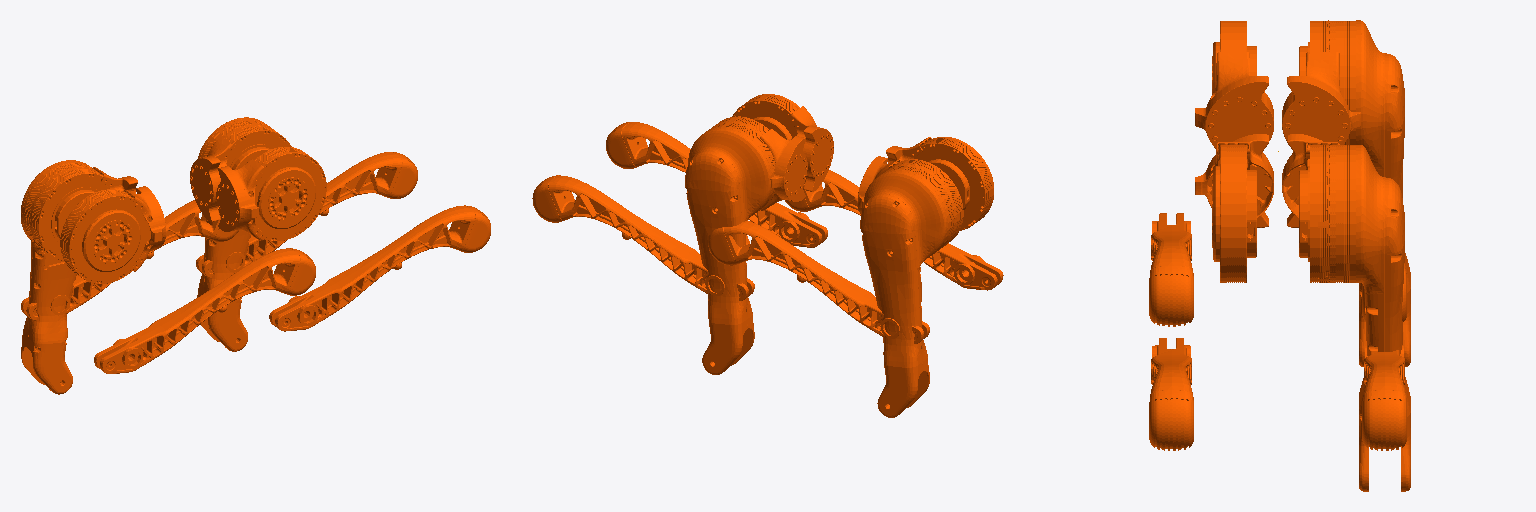
--- Facts derived from the render (not from the file) ---
The picture shows the robot from 3 angles, left to right: view 1: azimuth 30°, elevation 25°; view 2: azimuth 150°, elevation 25°; view 3: azimuth 270°, elevation 25°; orthographic projection.
Robot: a1_description — 23 links, 22 joints (12 revolute, 10 fixed); root link base; default pose: joints at zero except 4 at the middle of their limits (FR_calf_joint = -1.81, FL_calf_joint = -1.81, RR_calf_joint = -1.81, RL_calf_joint = -1.81).
Visible links, largest first — view 1: FR_hip, RR_hip, RR_calf, FR_calf, RL_thigh, FL_calf, FL_thigh, RL_hip, FL_hip, RL_calf; view 2: RL_thigh, FL_thigh, FL_calf, RL_calf, FR_calf, RR_hip, RR_calf, FR_hip, FL_hip, RL_hip; view 3: FL_thigh, RL_thigh, FR_hip, RR_hip, RL_hip, FL_hip, RR_calf, FR_calf, FL_calf.
Link boxes in pixels (x1,y1,x2,y2): FR_hip: (216,147,326,240); RR_hip: (60,186,165,283); RR_calf: (94,248,315,373); FR_calf: (269,205,490,331); RL_thigh: (21,160,97,394); FL_calf: (196,152,417,277); FL_thigh: (197,117,273,351); RL_hip: (30,167,137,260); FL_hip: (190,124,291,221); RL_calf: (21,200,238,320); RL_thigh: (860,163,957,417); FL_thigh: (685,120,775,374); FL_calf: (532,175,754,300); RL_calf: (708,220,929,343); FR_calf: (606,122,827,247); RR_hip: (886,137,993,230); RR_calf: (785,170,1003,290); FR_hip: (732,94,833,191); FL_hip: (716,116,807,210); RL_hip: (858,156,963,244); FL_thigh: (1308,145,1410,491); RL_thigh: (1308,20,1410,366); FR_hip: (1195,134,1273,282); RR_hip: (1195,21,1273,160); RL_hip: (1282,21,1360,160); FL_hip: (1282,134,1339,282); RR_calf: (1149,213,1193,326); FR_calf: (1149,338,1193,450); FL_calf: (1362,345,1406,450).
Size in the robot's own frame: 0.8265 by 0.3211 by 0.4589 metres.
Meshes: 5 distinct files referenced, 10 mesh visuals loaded (3 Collada DAE); not drawn: 3 (reference not matched to a file when rendering).

robot.urdf — a1_description:
<?xml version="1.0" encoding="utf-8"?>
<!-- =================================================================================== -->
<!-- |    This document was autogenerated by xacro from robot.xacro                    | -->
<!-- |    EDITING THIS FILE BY HAND IS NOT RECOMMENDED                                 | -->
<!-- =================================================================================== -->
<robot name="a1_description">
  <!-- dynamics inertial value -->
  <!-- trunk -->
  <!-- <xacro:property name="trunk_mass" value="5.660"/>
    <xacro:property name="trunk_com_x" value="0.012731"/>
    <xacro:property name="trunk_com_y" value="0.002186"/>
    <xacro:property name="trunk_com_z" value="0.000515"/>
    <xacro:property name="trunk_ixx" value="0.016839930"/>
    <xacro:property name="trunk_ixy" value="0.000083902"/>
    <xacro:property name="trunk_ixz" value="0.000597679"/>
    <xacro:property name="trunk_iyy" value="0.056579028"/>
    <xacro:property name="trunk_iyz" value="0.000025134"/>
    <xacro:property name="trunk_izz" value="0.064713601"/> -->
  <material name="black">
    <color rgba="0.0 0.0 0.0 1.0"/>
  </material>
  <material name="blue">
    <color rgba="0.0 0.0 0.8 1.0"/>
  </material>
  <material name="green">
    <color rgba="0.0 0.8 0.0 1.0"/>
  </material>
  <material name="grey">
    <color rgba="0.2 0.2 0.2 1.0"/>
  </material>
  <material name="silver">
    <color rgba="0.913725490196 0.913725490196 0.847058823529 1.0"/>
  </material>
  <material name="orange">
    <color rgba="1.0 0.423529411765 0.0392156862745 1.0"/>
  </material>
  <material name="brown">
    <color rgba="0.870588235294 0.811764705882 0.764705882353 1.0"/>
  </material>
  <material name="red">
    <color rgba="0.8 0.0 0.0 1.0"/>
  </material>
  <material name="white">
    <color rgba="1.0 1.0 1.0 1.0"/>
  </material>
  <!-- ros_control plugin -->
  <gazebo>
    <plugin filename="libgazebo_ros_control.so" name="gazebo_ros_control">
      <robotNamespace>/a1_gazebo</robotNamespace>
      <robotSimType>gazebo_ros_control/DefaultRobotHWSim</robotSimType>
    </plugin>
  </gazebo>
  <!-- Show the trajectory of trunk center. -->
  <gazebo>
    <plugin filename="libLinkPlot3DPlugin.so" name="3dplotTrunk">
      <frequency>10</frequency>
      <plot>
        <link>base</link>
        <pose>0 0 0 0 0 0</pose>
        <material>Gazebo/Yellow</material>
      </plot>
    </plugin>
  </gazebo>
  <!-- Show the trajectory of foot. You can add another trajectory about another foot. -->
  <gazebo>
    <plugin filename="libLinkPlot3DPlugin.so" name="3dplot">
      <frequency>1000</frequency>
      <plot>
        <link>FR_calf</link>
        <pose>0 0 -0.2 0 0 0</pose>
        <material>Gazebo/Yellow</material>
      </plot>
    </plugin>
  </gazebo>
  <gazebo>
    <plugin filename="libgazebo_ros_force.so" name="gazebo_ros_force">
      <bodyName>trunk</bodyName>
      <topicName>/apply_force/trunk</topicName>
    </plugin>
  </gazebo>
  <gazebo reference="imu_link">
    <gravity>true</gravity>
    <sensor name="imu_sensor" type="imu">
      <always_on>true</always_on>
      <update_rate>1000</update_rate>
      <visualize>true</visualize>
      <topic>__default_topic__</topic>
      <plugin filename="libgazebo_ros_imu_sensor.so" name="imu_plugin">
        <topicName>trunk_imu</topicName>
        <bodyName>imu_link</bodyName>
        <updateRateHZ>1000.0</updateRateHZ>
        <gaussianNoise>0.0</gaussianNoise>
        <xyzOffset>0 0 0</xyzOffset>
        <rpyOffset>0 0 0</rpyOffset>
        <frameName>imu_link</frameName>
      </plugin>
      <pose>0 0 0 0 0 0</pose>
    </sensor>
  </gazebo>
  <!-- Foot contacts. -->
  <gazebo reference="FR_calf">
    <sensor name="FR_foot_contact" type="contact">
      <update_rate>100</update_rate>
      <plugin filename="libunitreeFootContactPlugin.so" name="contactPlugin"/>
      <contact>
        <collision>FR_calf_fixed_joint_lump__FR_foot_collision_1</collision>
      </contact>
    </sensor>
  </gazebo>
  <gazebo reference="FL_calf">
    <sensor name="FL_foot_contact" type="contact">
      <update_rate>100</update_rate>
      <plugin filename="libunitreeFootContactPlugin.so" name="contactPlugin"/>
      <contact>
        <collision>FL_calf_fixed_joint_lump__FL_foot_collision_1</collision>
      </contact>
    </sensor>
  </gazebo>
  <gazebo reference="RR_calf">
    <sensor name="RR_foot_contact" type="contact">
      <update_rate>100</update_rate>
      <plugin filename="libunitreeFootContactPlugin.so" name="contactPlugin"/>
      <contact>
        <collision>RR_calf_fixed_joint_lump__RR_foot_collision_1</collision>
      </contact>
    </sensor>
  </gazebo>
  <gazebo reference="RL_calf">
    <sensor name="RL_foot_contact" type="contact">
      <update_rate>100</update_rate>
      <plugin filename="libunitreeFootContactPlugin.so" name="contactPlugin"/>
      <contact>
        <collision>RL_calf_fixed_joint_lump__RL_foot_collision_1</collision>
      </contact>
    </sensor>
  </gazebo>
  <!-- Visualization of Foot contacts. -->
  <gazebo reference="FR_foot">
    <visual>
      <plugin filename="libunitreeDrawForcePlugin.so" name="drawForcePlugin">
        <topicName>FR_foot_contact</topicName>
      </plugin>
    </visual>
  </gazebo>
  <gazebo reference="FL_foot">
    <visual>
      <plugin filename="libunitreeDrawForcePlugin.so" name="drawForcePlugin">
        <topicName>FL_foot_contact</topicName>
      </plugin>
    </visual>
  </gazebo>
  <gazebo reference="RR_foot">
    <visual>
      <plugin filename="libunitreeDrawForcePlugin.so" name="drawForcePlugin">
        <topicName>RR_foot_contact</topicName>
      </plugin>
    </visual>
  </gazebo>
  <gazebo reference="RL_foot">
    <visual>
      <plugin filename="libunitreeDrawForcePlugin.so" name="drawForcePlugin">
        <topicName>RL_foot_contact</topicName>
      </plugin>
    </visual>
  </gazebo>
  <gazebo reference="base">
    <material>Gazebo/Green</material>
    <turnGravityOff>false</turnGravityOff>
  </gazebo>
  <gazebo reference="trunk">
    <mu1>0.2</mu1>
    <mu2>0.2</mu2>
    <kp value="1000000.0"/>
    <kd value="1.0"/>
  </gazebo>
  <gazebo reference="stick_link">
    <mu1>0.2</mu1>
    <mu2>0.2</mu2>
    <material>Gazebo/White</material>
  </gazebo>
  <gazebo reference="imu_link">
    <mu1>0.2</mu1>
    <mu2>0.2</mu2>
    <material>Gazebo/Red</material>
  </gazebo>
  <!-- FL leg -->
  <gazebo reference="FL_hip">
    <mu1>0.2</mu1>
    <mu2>0.2</mu2>
    <material>Gazebo/DarkGrey</material>
  </gazebo>
  <gazebo reference="FL_thigh">
    <mu1>0.2</mu1>
    <mu2>0.2</mu2>
    <self_collide>1</self_collide>
    <material>Gazebo/DarkGrey</material>
    <kp value="1000000.0"/>
    <kd value="1.0"/>
  </gazebo>
  <gazebo reference="FL_calf">
    <mu1>0.2</mu1>
    <mu2>0.2</mu2>
    <self_collide>1</self_collide>
  </gazebo>
  <gazebo reference="FL_foot">
    <mu1>0.6</mu1>
    <mu2>0.6</mu2>
    <self_collide>1</self_collide>
    <material>Gazebo/DarkGrey</material>
    <kp value="1000000.0"/>
    <kd value="1.0"/>
  </gazebo>
  <!-- FR leg -->
  <gazebo reference="FR_hip">
    <mu1>0.2</mu1>
    <mu2>0.2</mu2>
    <material>Gazebo/DarkGrey</material>
  </gazebo>
  <gazebo reference="FR_thigh">
    <mu1>0.2</mu1>
    <mu2>0.2</mu2>
    <self_collide>1</self_collide>
    <material>Gazebo/DarkGrey</material>
    <kp value="1000000.0"/>
    <kd value="1.0"/>
  </gazebo>
  <gazebo reference="FR_calf">
    <mu1>0.2</mu1>
    <mu2>0.2</mu2>
    <self_collide>1</self_collide>
  </gazebo>
  <gazebo reference="FR_foot">
    <mu1>0.6</mu1>
    <mu2>0.6</mu2>
    <self_collide>1</self_collide>
    <material>Gazebo/DarkGrey</material>
    <kp value="1000000.0"/>
    <kd value="1.0"/>
  </gazebo>
  <!-- RL leg -->
  <gazebo reference="RL_hip">
    <mu1>0.2</mu1>
    <mu2>0.2</mu2>
    <material>Gazebo/DarkGrey</material>
  </gazebo>
  <gazebo reference="RL_thigh">
    <mu1>0.2</mu1>
    <mu2>0.2</mu2>
    <self_collide>1</self_collide>
    <material>Gazebo/DarkGrey</material>
    <kp value="1000000.0"/>
    <kd value="1.0"/>
  </gazebo>
  <gazebo reference="RL_calf">
    <mu1>0.2</mu1>
    <mu2>0.2</mu2>
    <self_collide>1</self_collide>
  </gazebo>
  <gazebo reference="RL_foot">
    <mu1>0.6</mu1>
    <mu2>0.6</mu2>
    <self_collide>1</self_collide>
    <material>Gazebo/DarkGrey</material>
    <kp value="1000000.0"/>
    <kd value="1.0"/>
  </gazebo>
  <!-- RR leg -->
  <gazebo reference="RR_hip">
    <mu1>0.2</mu1>
    <mu2>0.2</mu2>
    <material>Gazebo/DarkGrey</material>
  </gazebo>
  <gazebo reference="RR_thigh">
    <mu1>0.2</mu1>
    <mu2>0.2</mu2>
    <self_collide>1</self_collide>
    <material>Gazebo/DarkGrey</material>
    <kp value="1000000.0"/>
    <kd value="1.0"/>
  </gazebo>
  <gazebo reference="RR_calf">
    <mu1>0.2</mu1>
    <mu2>0.2</mu2>
    <self_collide>1</self_collide>
  </gazebo>
  <gazebo reference="RR_foot">
    <mu1>0.6</mu1>
    <mu2>0.6</mu2>
    <self_collide>1</self_collide>
    <material>Gazebo/DarkGrey</material>
    <kp value="1000000.0"/>
    <kd value="1.0"/>
  </gazebo>
  <!-- <xacro:include filename="$(find a1_gazebo)/launch/stairs.urdf.xacro"/> -->
  <!-- <xacro:stairs stairs="15" xpos="0" ypos="0" zpos="0" /> -->
  <!-- Debug mode will hung up the robot, use "true" or "false" to switch it. -->
  <!-- <xacro:if value="$(arg DEBUG)">
        <link name="world"/>
        <joint name="base_static_joint" type="fixed">
            <origin rpy="0 0 0" xyz="0 0 0"/>
            <parent link="world"/>
            <child link="base"/>
        </joint>
    </xacro:if>  -->
  <link name="base">
    <visual>
      <origin rpy="0 0 0" xyz="0 0 0"/>
      <geometry>
        <box size="0.001 0.001 0.001"/>
      </geometry>
    </visual>
  </link>
  <joint name="floating_base" type="fixed">
    <origin rpy="0 0 0" xyz="0 0 0"/>
    <parent link="base"/>
    <child link="trunk"/>
  </joint>
  <link name="trunk">
    <visual>
      <origin rpy="0 0 0" xyz="0 0 0"/>
      <geometry>
        <mesh filename="package://a1_description/meshes/trunk.dae" scale="1 1 1"/>
      </geometry>
      <material name="orange"/>
    </visual>
    <collision>
      <origin rpy="0 0 0" xyz="0 0 0"/>
      <geometry>
        <box size="0.267 0.194 0.114"/>
      </geometry>
    </collision>
    <inertial>
      <origin rpy="0 0 0" xyz="0.0 0.0041 -0.0005"/>
      <mass value="6.0"/>
      <inertia ixx="0.0158533" ixy="-3.66e-05" ixz="-6.11e-05" iyy="0.0377999" iyz="-2.75e-05" izz="0.0456542"/>
    </inertial>
  </link>
  <joint name="imu_joint" type="fixed">
    <parent link="trunk"/>
    <child link="imu_link"/>
    <origin rpy="0 0 0" xyz="0 0 0"/>
  </joint>
  <link name="imu_link">
    <inertial>
      <mass value="0.001"/>
      <origin rpy="0 0 0" xyz="0 0 0"/>
      <inertia ixx="0.0001" ixy="0" ixz="0" iyy="0.0001" iyz="0" izz="0.0001"/>
    </inertial>
    <visual>
      <origin rpy="0 0 0" xyz="0 0 0"/>
      <geometry>
        <box size="0.001 0.001 0.001"/>
      </geometry>
      <material name="red"/>
    </visual>
    <collision>
      <origin rpy="0 0 0" xyz="0 0 0"/>
      <geometry>
        <box size=".001 .001 .001"/>
      </geometry>
    </collision>
  </link>
  <joint name="FR_hip_joint" type="revolute">
    <origin rpy="0 0 0" xyz="0.1805 -0.047 0"/>
    <parent link="trunk"/>
    <child link="FR_hip"/>
    <axis xyz="1 0 0"/>
    <dynamics damping="0.01" friction="0.2"/>
    <limit effort="33.5" lower="-0.802851455917" upper="0.802851455917" velocity="21"/>
  </joint>
  <link name="FR_hip">
    <visual>
      <origin rpy="3.14159265359 0 0" xyz="0 0 0"/>
      <geometry>
        <mesh filename="package://a1_description/meshes/hip.dae" scale="1 1 1"/>
      </geometry>
      <material name="orange"/>
    </visual>
    <collision>
      <origin rpy="1.57079632679 0 0" xyz="0 0 0"/>
      <geometry>
        <cylinder length="0.04" radius="0.046"/>
      </geometry>
    </collision>
    <inertial>
      <origin rpy="0 0 0" xyz="-0.003311 -0.000635 3.1e-05"/>
      <mass value="0.696"/>
      <inertia ixx="0.000469246" ixy="9.409e-06" ixz="-3.42e-07" iyy="0.00080749" iyz="4.66e-07" izz="0.000552929"/>
    </inertial>
  </link>
  <joint name="FR_hip_fixed" type="fixed">
    <origin rpy="0 0 0" xyz="0 -0.081 0"/>
    <parent link="FR_hip"/>
    <child link="FR_thigh_shoulder"/>
  </joint>
  <!-- this link is only for collision -->
  <link name="FR_thigh_shoulder">
    <collision>
      <origin rpy="1.57079632679 0 0" xyz="0 0 0"/>
      <geometry>
        <cylinder length="0.032" radius="0.041"/>
      </geometry>
    </collision>
  </link>
  <joint name="FR_thigh_joint" type="revolute">
    <origin rpy="0 0 0" xyz="0 -0.0838 0"/>
    <parent link="FR_hip"/>
    <child link="FR_thigh"/>
    <axis xyz="0 1 0"/>
    <dynamics damping="0.01" friction="0.2"/>
    <limit effort="33.5" lower="-1.0471975512" upper="4.18879020479" velocity="21"/>
  </joint>
  <link name="FR_thigh">
    <visual>
      <origin rpy="0 0 0" xyz="0 0 0"/>
      <geometry>
        <mesh filename="package://a1_description/meshes/thigh_mirror.dae" scale="1 1 1"/>
      </geometry>
      <material name="orange"/>
    </visual>
    <collision>
      <origin rpy="0 1.57079632679 0" xyz="0 0 -0.1"/>
      <geometry>
        <box size="0.2 0.0245 0.034"/>
      </geometry>
    </collision>
    <inertial>
      <origin rpy="0 0 0" xyz="-0.003237 0.022327 -0.027326"/>
      <mass value="1.013"/>
      <inertia ixx="0.005529065" ixy="-4.825e-06" ixz="0.000343869" iyy="0.005139339" iyz="-2.2448e-05" izz="0.001367788"/>
    </inertial>
  </link>
  <joint name="FR_calf_joint" type="revolute">
    <origin rpy="0 0 0" xyz="0 0 -0.2"/>
    <parent link="FR_thigh"/>
    <child link="FR_calf"/>
    <axis xyz="0 1 0"/>
    <dynamics damping="0.01" friction="0.2"/>
    <limit effort="33.5" lower="-2.69653369433" upper="-0.916297857297" velocity="21"/>
  </joint>
  <link name="FR_calf">
    <visual>
      <origin rpy="0 0 0" xyz="0 0 0"/>
      <geometry>
        <mesh filename="package://a1_description/meshes/calf.dae" scale="1 1 1"/>
      </geometry>
      <material name="orange"/>
    </visual>
    <collision>
      <origin rpy="0 1.57079632679 0" xyz="0 0 -0.1"/>
      <geometry>
        <box size="0.2 0.016 0.016"/>
      </geometry>
    </collision>
    <inertial>
      <origin rpy="0 0 0" xyz="0.006435 0.0 -0.107388"/>
      <mass value="0.166"/>
      <inertia ixx="0.002997972" ixy="0.0" ixz="-0.000141163" iyy="0.003014022" iyz="0.0" izz="3.2426e-05"/>
    </inertial>
  </link>
  <joint name="FR_foot_fixed" type="fixed">
    <origin rpy="0 0 0" xyz="0 0 -0.2"/>
    <parent link="FR_calf"/>
    <child link="FR_foot"/>
  </joint>
  <link name="FR_foot">
    <visual>
      <origin rpy="0 0 0" xyz="0 0 0"/>
      <geometry>
        <sphere radius="0.01"/>
      </geometry>
      <material name="orange"/>
    </visual>
    <collision>
      <origin rpy="0 0 0" xyz="0 0 0"/>
      <geometry>
        <sphere radius="0.02"/>
      </geometry>
    </collision>
    <inertial>
      <mass value="0.06"/>
      <inertia ixx="9.6e-06" ixy="0.0" ixz="0.0" iyy="9.6e-06" iyz="0.0" izz="9.6e-06"/>
    </inertial>
  </link>
  <transmission name="FR_hip_tran">
    <type>transmission_interface/SimpleTransmission</type>
    <joint name="FR_hip_joint">
      <hardwareInterface>hardware_interface/EffortJointInterface</hardwareInterface>
    </joint>
    <actuator name="FR_hip_motor">
      <hardwareInterface>hardware_interface/EffortJointInterface</hardwareInterface>
      <mechanicalReduction>1</mechanicalReduction>
    </actuator>
  </transmission>
  <transmission name="FR_thigh_tran">
    <type>transmission_interface/SimpleTransmission</type>
    <joint name="FR_thigh_joint">
      <hardwareInterface>hardware_interface/EffortJointInterface</hardwareInterface>
    </joint>
    <actuator name="FR_thigh_motor">
      <hardwareInterface>hardware_interface/EffortJointInterface</hardwareInterface>
      <mechanicalReduction>1</mechanicalReduction>
    </actuator>
  </transmission>
  <transmission name="FR_calf_tran">
    <type>transmission_interface/SimpleTransmission</type>
    <joint name="FR_calf_joint">
      <hardwareInterface>hardware_interface/EffortJointInterface</hardwareInterface>
    </joint>
    <actuator name="FR_calf_motor">
      <hardwareInterface>hardware_interface/EffortJointInterface</hardwareInterface>
      <mechanicalReduction>1</mechanicalReduction>
    </actuator>
  </transmission>
  <joint name="FL_hip_joint" type="revolute">
    <origin rpy="0 0 0" xyz="0.1805 0.047 0"/>
    <parent link="trunk"/>
    <child link="FL_hip"/>
    <axis xyz="1 0 0"/>
    <dynamics damping="0.01" friction="0.2"/>
    <limit effort="33.5" lower="-0.802851455917" upper="0.802851455917" velocity="21"/>
  </joint>
  <link name="FL_hip">
    <visual>
      <origin rpy="0 0 0" xyz="0 0 0"/>
      <geometry>
        <mesh filename="package://a1_description/meshes/hip.dae" scale="1 1 1"/>
      </geometry>
      <material name="orange"/>
    </visual>
    <collision>
      <origin rpy="1.57079632679 0 0" xyz="0 0 0"/>
      <geometry>
        <cylinder length="0.04" radius="0.046"/>
      </geometry>
    </collision>
    <inertial>
      <origin rpy="0 0 0" xyz="-0.003311 0.000635 3.1e-05"/>
      <mass value="0.696"/>
      <inertia ixx="0.000469246" ixy="-9.409e-06" ixz="-3.42e-07" iyy="0.00080749" iyz="-4.66e-07" izz="0.000552929"/>
    </inertial>
  </link>
  <joint name="FL_hip_fixed" type="fixed">
    <origin rpy="0 0 0" xyz="0 0.081 0"/>
    <parent link="FL_hip"/>
    <child link="FL_thigh_shoulder"/>
  </joint>
  <!-- this link is only for collision -->
  <link name="FL_thigh_shoulder">
    <collision>
      <origin rpy="1.57079632679 0 0" xyz="0 0 0"/>
      <geometry>
        <cylinder length="0.032" radius="0.041"/>
      </geometry>
    </collision>
  </link>
  <joint name="FL_thigh_joint" type="revolute">
    <origin rpy="0 0 0" xyz="0 0.0838 0"/>
    <parent link="FL_hip"/>
    <child link="FL_thigh"/>
    <axis xyz="0 1 0"/>
    <dynamics damping="0.01" friction="0.2"/>
    <limit effort="33.5" lower="-1.0471975512" upper="4.18879020479" velocity="21"/>
  </joint>
  <link name="FL_thigh">
    <visual>
      <origin rpy="0 0 0" xyz="0 0 0"/>
      <geometry>
        <mesh filename="package://a1_description/meshes/thigh.dae" scale="1 1 1"/>
      </geometry>
      <material name="orange"/>
    </visual>
    <collision>
      <origin rpy="0 1.57079632679 0" xyz="0 0 -0.1"/>
      <geometry>
        <box size="0.2 0.0245 0.034"/>
      </geometry>
    </collision>
    <inertial>
      <origin rpy="0 0 0" xyz="-0.003237 -0.022327 -0.027326"/>
      <mass value="1.013"/>
      <inertia ixx="0.005529065" ixy="4.825e-06" ixz="0.000343869" iyy="0.005139339" iyz="2.2448e-05" izz="0.001367788"/>
    </inertial>
  </link>
  <joint name="FL_calf_joint" type="revolute">
    <origin rpy="0 0 0" xyz="0 0 -0.2"/>
    <parent link="FL_thigh"/>
    <child link="FL_calf"/>
    <axis xyz="0 1 0"/>
    <dynamics damping="0.01" friction="0.2"/>
    <limit effort="33.5" lower="-2.69653369433" upper="-0.916297857297" velocity="21"/>
  </joint>
  <link name="FL_calf">
    <visual>
      <origin rpy="0 0 0" xyz="0 0 0"/>
      <geometry>
        <mesh filename="package://a1_description/meshes/calf.dae" scale="1 1 1"/>
      </geometry>
      <material name="orange"/>
    </visual>
    <collision>
      <origin rpy="0 1.57079632679 0" xyz="0 0 -0.1"/>
      <geometry>
        <box size="0.2 0.016 0.016"/>
      </geometry>
    </collision>
    <inertial>
      <origin rpy="0 0 0" xyz="0.006435 0.0 -0.107388"/>
      <mass value="0.166"/>
      <inertia ixx="0.002997972" ixy="0.0" ixz="-0.000141163" iyy="0.003014022" iyz="0.0" izz="3.2426e-05"/>
    </inertial>
  </link>
  <joint name="FL_foot_fixed" type="fixed">
    <origin rpy="0 0 0" xyz="0 0 -0.2"/>
    <parent link="FL_calf"/>
    <child link="FL_foot"/>
  </joint>
  <link name="FL_foot">
    <visual>
      <origin rpy="0 0 0" xyz="0 0 0"/>
      <geometry>
        <sphere radius="0.01"/>
      </geometry>
      <material name="orange"/>
    </visual>
    <collision>
      <origin rpy="0 0 0" xyz="0 0 0"/>
      <geometry>
        <sphere radius="0.02"/>
      </geometry>
    </collision>
    <inertial>
      <mass value="0.06"/>
      <inertia ixx="9.6e-06" ixy="0.0" ixz="0.0" iyy="9.6e-06" iyz="0.0" izz="9.6e-06"/>
    </inertial>
  </link>
  <transmission name="FL_hip_tran">
    <type>transmission_interface/SimpleTransmission</type>
    <joint name="FL_hip_joint">
      <hardwareInterface>hardware_interface/EffortJointInterface</hardwareInterface>
    </joint>
    <actuator name="FL_hip_motor">
      <hardwareInterface>hardware_interface/EffortJointInterface</hardwareInterface>
      <mechanicalReduction>1</mechanicalReduction>
    </actuator>
  </transmission>
  <transmission name="FL_thigh_tran">
    <type>transmission_interface/SimpleTransmission</type>
    <joint name="FL_thigh_joint">
      <hardwareInterface>hardware_interface/EffortJointInterface</hardwareInterface>
    </joint>
    <actuator name="FL_thigh_motor">
      <hardwareInterface>hardware_interface/EffortJointInterface</hardwareInterface>
      <mechanicalReduction>1</mechanicalReduction>
    </actuator>
  </transmission>
  <transmission name="FL_calf_tran">
    <type>transmission_interface/SimpleTransmission</type>
    <joint name="FL_calf_joint">
      <hardwareInterface>hardware_interface/EffortJointInterface</hardwareInterface>
    </joint>
    <actuator name="FL_calf_motor">
      <hardwareInterface>hardware_interface/EffortJointInterface</hardwareInterface>
      <mechanicalReduction>1</mechanicalReduction>
    </actuator>
  </transmission>
  <joint name="RR_hip_joint" type="revolute">
    <origin rpy="0 0 0" xyz="-0.1805 -0.047 0"/>
    <parent link="trunk"/>
    <child link="RR_hip"/>
    <axis xyz="1 0 0"/>
    <dynamics damping="0.01" friction="0.2"/>
    <limit effort="33.5" lower="-0.802851455917" upper="0.802851455917" velocity="21"/>
  </joint>
  <link name="RR_hip">
    <visual>
      <origin rpy="3.14159265359 3.14159265359 0" xyz="0 0 0"/>
      <geometry>
        <mesh filename="package://a1_description/meshes/hip.dae" scale="1 1 1"/>
      </geometry>
      <material name="orange"/>
    </visual>
    <collision>
      <origin rpy="1.57079632679 0 0" xyz="0 0 0"/>
      <geometry>
        <cylinder length="0.04" radius="0.046"/>
      </geometry>
    </collision>
    <inertial>
      <origin rpy="0 0 0" xyz="0.003311 -0.000635 3.1e-05"/>
      <mass value="0.696"/>
      <inertia ixx="0.000469246" ixy="-9.409e-06" ixz="3.42e-07" iyy="0.00080749" iyz="4.66e-07" izz="0.000552929"/>
    </inertial>
  </link>
  <joint name="RR_hip_fixed" type="fixed">
    <origin rpy="0 0 0" xyz="0 -0.081 0"/>
    <parent link="RR_hip"/>
    <child link="RR_thigh_shoulder"/>
  </joint>
  <!-- this link is only for collision -->
  <link name="RR_thigh_shoulder">
    <collision>
      <origin rpy="1.57079632679 0 0" xyz="0 0 0"/>
      <geometry>
        <cylinder length="0.032" radius="0.041"/>
      </geometry>
    </collision>
  </link>
  <joint name="RR_thigh_joint" type="revolute">
    <origin rpy="0 0 0" xyz="0 -0.0838 0"/>
    <parent link="RR_hip"/>
    <child link="RR_thigh"/>
    <axis xyz="0 1 0"/>
    <dynamics damping="0.01" friction="0.2"/>
    <limit effort="33.5" lower="-1.0471975512" upper="4.18879020479" velocity="21"/>
  </joint>
  <link name="RR_thigh">
    <visual>
      <origin rpy="0 0 0" xyz="0 0 0"/>
      <geometry>
        <mesh filename="package://a1_description/meshes/thigh_mirror.dae" scale="1 1 1"/>
      </geometry>
      <material name="orange"/>
    </visual>
    <collision>
      <origin rpy="0 1.57079632679 0" xyz="0 0 -0.1"/>
      <geometry>
        <box size="0.2 0.0245 0.034"/>
      </geometry>
    </collision>
    <inertial>
      <origin rpy="0 0 0" xyz="-0.003237 0.022327 -0.027326"/>
      <mass value="1.013"/>
      <inertia ixx="0.005529065" ixy="-4.825e-06" ixz="0.000343869" iyy="0.005139339" iyz="-2.2448e-05" izz="0.001367788"/>
    </inertial>
  </link>
  <joint name="RR_calf_joint" type="revolute">
    <origin rpy="0 0 0" xyz="0 0 -0.2"/>
    <parent link="RR_thigh"/>
    <child link="RR_calf"/>
    <axis xyz="0 1 0"/>
    <dynamics damping="0.01" friction="0.2"/>
    <limit effort="33.5" lower="-2.69653369433" upper="-0.916297857297" velocity="21"/>
  </joint>
  <link name="RR_calf">
    <visual>
      <origin rpy="0 0 0" xyz="0 0 0"/>
      <geometry>
        <mesh filename="package://a1_description/meshes/calf.dae" scale="1 1 1"/>
      </geometry>
      <material name="orange"/>
    </visual>
    <collision>
      <origin rpy="0 1.57079632679 0" xyz="0 0 -0.1"/>
      <geometry>
        <box size="0.2 0.016 0.016"/>
      </geometry>
    </collision>
    <inertial>
      <origin rpy="0 0 0" xyz="0.006435 0.0 -0.107388"/>
      <mass value="0.166"/>
      <inertia ixx="0.002997972" ixy="0.0" ixz="-0.000141163" iyy="0.003014022" iyz="0.0" izz="3.2426e-05"/>
    </inertial>
  </link>
  <joint name="RR_foot_fixed" type="fixed">
    <origin rpy="0 0 0" xyz="0 0 -0.2"/>
    <parent link="RR_calf"/>
    <child link="RR_foot"/>
  </joint>
  <link name="RR_foot">
    <visual>
      <origin rpy="0 0 0" xyz="0 0 0"/>
      <geometry>
        <sphere radius="0.01"/>
      </geometry>
      <material name="orange"/>
    </visual>
    <collision>
      <origin rpy="0 0 0" xyz="0 0 0"/>
      <geometry>
        <sphere radius="0.02"/>
      </geometry>
    </collision>
    <inertial>
      <mass value="0.06"/>
      <inertia ixx="9.6e-06" ixy="0.0" ixz="0.0" iyy="9.6e-06" iyz="0.0" izz="9.6e-06"/>
    </inertial>
  </link>
  <transmission name="RR_hip_tran">
    <type>transmission_interface/SimpleTransmission</type>
    <joint name="RR_hip_joint">
      <hardwareInterface>hardware_interface/EffortJointInterface</hardwareInterface>
    </joint>
    <actuator name="RR_hip_motor">
      <hardwareInterface>hardware_interface/EffortJointInterface</hardwareInterface>
      <mechanicalReduction>1</mechanicalReduction>
    </actuator>
  </transmission>
  <transmission name="RR_thigh_tran">
    <type>transmission_interface/SimpleTransmission</type>
    <joint name="RR_thigh_joint">
      <hardwareInterface>hardware_interface/EffortJointInterface</hardwareInterface>
    </joint>
    <actuator name="RR_thigh_motor">
      <hardwareInterface>hardware_interface/EffortJointInterface</hardwareInterface>
      <mechanicalReduction>1</mechanicalReduction>
    </actuator>
  </transmission>
  <transmission name="RR_calf_tran">
    <type>transmission_interface/SimpleTransmission</type>
    <joint name="RR_calf_joint">
      <hardwareInterface>hardware_interface/EffortJointInterface</hardwareInterface>
    </joint>
    <actuator name="RR_calf_motor">
      <hardwareInterface>hardware_interface/EffortJointInterface</hardwareInterface>
      <mechanicalReduction>1</mechanicalReduction>
    </actuator>
  </transmission>
  <joint name="RL_hip_joint" type="revolute">
    <origin rpy="0 0 0" xyz="-0.1805 0.047 0"/>
    <parent link="trunk"/>
    <child link="RL_hip"/>
    <axis xyz="1 0 0"/>
    <dynamics damping="0.01" friction="0.2"/>
    <limit effort="33.5" lower="-0.802851455917" upper="0.802851455917" velocity="21"/>
  </joint>
  <link name="RL_hip">
    <visual>
      <origin rpy="0 3.14159265359 0" xyz="0 0 0"/>
      <geometry>
        <mesh filename="package://a1_description/meshes/hip.dae" scale="1 1 1"/>
      </geometry>
      <material name="orange"/>
    </visual>
    <collision>
      <origin rpy="1.57079632679 0 0" xyz="0 0 0"/>
      <geometry>
        <cylinder length="0.04" radius="0.046"/>
      </geometry>
    </collision>
    <inertial>
      <origin rpy="0 0 0" xyz="0.003311 0.000635 3.1e-05"/>
      <mass value="0.696"/>
      <inertia ixx="0.000469246" ixy="9.409e-06" ixz="3.42e-07" iyy="0.00080749" iyz="-4.66e-07" izz="0.000552929"/>
    </inertial>
  </link>
  <joint name="RL_hip_fixed" type="fixed">
    <origin rpy="0 0 0" xyz="0 0.081 0"/>
    <parent link="RL_hip"/>
    <child link="RL_thigh_shoulder"/>
  </joint>
  <!-- this link is only for collision -->
  <link name="RL_thigh_shoulder">
    <collision>
      <origin rpy="1.57079632679 0 0" xyz="0 0 0"/>
      <geometry>
        <cylinder length="0.032" radius="0.041"/>
      </geometry>
    </collision>
  </link>
  <joint name="RL_thigh_joint" type="revolute">
    <origin rpy="0 0 0" xyz="0 0.0838 0"/>
    <parent link="RL_hip"/>
    <child link="RL_thigh"/>
    <axis xyz="0 1 0"/>
    <dynamics damping="0.01" friction="0.2"/>
    <limit effort="33.5" lower="-1.0471975512" upper="4.18879020479" velocity="21"/>
  </joint>
  <link name="RL_thigh">
    <visual>
      <origin rpy="0 0 0" xyz="0 0 0"/>
      <geometry>
        <mesh filename="package://a1_description/meshes/thigh.dae" scale="1 1 1"/>
      </geometry>
      <material name="orange"/>
    </visual>
    <collision>
      <origin rpy="0 1.57079632679 0" xyz="0 0 -0.1"/>
      <geometry>
        <box size="0.2 0.0245 0.034"/>
      </geometry>
    </collision>
    <inertial>
      <origin rpy="0 0 0" xyz="-0.003237 -0.022327 -0.027326"/>
      <mass value="1.013"/>
      <inertia ixx="0.005529065" ixy="4.825e-06" ixz="0.000343869" iyy="0.005139339" iyz="2.2448e-05" izz="0.001367788"/>
    </inertial>
  </link>
  <joint name="RL_calf_joint" type="revolute">
    <origin rpy="0 0 0" xyz="0 0 -0.2"/>
    <parent link="RL_thigh"/>
    <child link="RL_calf"/>
    <axis xyz="0 1 0"/>
    <dynamics damping="0.01" friction="0.2"/>
    <limit effort="33.5" lower="-2.69653369433" upper="-0.916297857297" velocity="21"/>
  </joint>
  <link name="RL_calf">
    <visual>
      <origin rpy="0 0 0" xyz="0 0 0"/>
      <geometry>
        <mesh filename="package://a1_description/meshes/calf.dae" scale="1 1 1"/>
      </geometry>
      <material name="orange"/>
    </visual>
    <collision>
      <origin rpy="0 1.57079632679 0" xyz="0 0 -0.1"/>
      <geometry>
        <box size="0.2 0.016 0.016"/>
      </geometry>
    </collision>
    <inertial>
      <origin rpy="0 0 0" xyz="0.006435 0.0 -0.107388"/>
      <mass value="0.166"/>
      <inertia ixx="0.002997972" ixy="0.0" ixz="-0.000141163" iyy="0.003014022" iyz="0.0" izz="3.2426e-05"/>
    </inertial>
  </link>
  <joint name="RL_foot_fixed" type="fixed">
    <origin rpy="0 0 0" xyz="0 0 -0.2"/>
    <parent link="RL_calf"/>
    <child link="RL_foot"/>
  </joint>
  <link name="RL_foot">
    <visual>
      <origin rpy="0 0 0" xyz="0 0 0"/>
      <geometry>
        <sphere radius="0.01"/>
      </geometry>
      <material name="orange"/>
    </visual>
    <collision>
      <origin rpy="0 0 0" xyz="0 0 0"/>
      <geometry>
        <sphere radius="0.02"/>
      </geometry>
    </collision>
    <inertial>
      <mass value="0.06"/>
      <inertia ixx="9.6e-06" ixy="0.0" ixz="0.0" iyy="9.6e-06" iyz="0.0" izz="9.6e-06"/>
    </inertial>
  </link>
  <transmission name="RL_hip_tran">
    <type>transmission_interface/SimpleTransmission</type>
    <joint name="RL_hip_joint">
      <hardwareInterface>hardware_interface/EffortJointInterface</hardwareInterface>
    </joint>
    <actuator name="RL_hip_motor">
      <hardwareInterface>hardware_interface/EffortJointInterface</hardwareInterface>
      <mechanicalReduction>1</mechanicalReduction>
    </actuator>
  </transmission>
  <transmission name="RL_thigh_tran">
    <type>transmission_interface/SimpleTransmission</type>
    <joint name="RL_thigh_joint">
      <hardwareInterface>hardware_interface/EffortJointInterface</hardwareInterface>
    </joint>
    <actuator name="RL_thigh_motor">
      <hardwareInterface>hardware_interface/EffortJointInterface</hardwareInterface>
      <mechanicalReduction>1</mechanicalReduction>
    </actuator>
  </transmission>
  <transmission name="RL_calf_tran">
    <type>transmission_interface/SimpleTransmission</type>
    <joint name="RL_calf_joint">
      <hardwareInterface>hardware_interface/EffortJointInterface</hardwareInterface>
    </joint>
    <actuator name="RL_calf_motor">
      <hardwareInterface>hardware_interface/EffortJointInterface</hardwareInterface>
      <mechanicalReduction>1</mechanicalReduction>
    </actuator>
  </transmission>
  <!-- <xacro:stairs stairs="15" xpos="0" ypos="2.0" zpos="0" /> -->
</robot>
